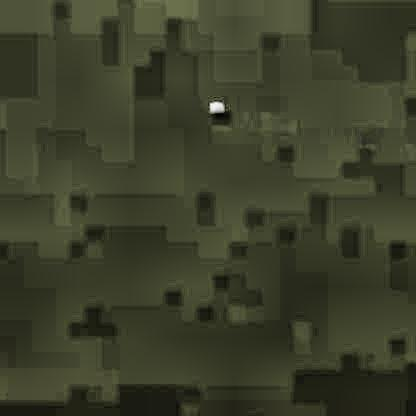golfball: (207, 99, 223, 113)
